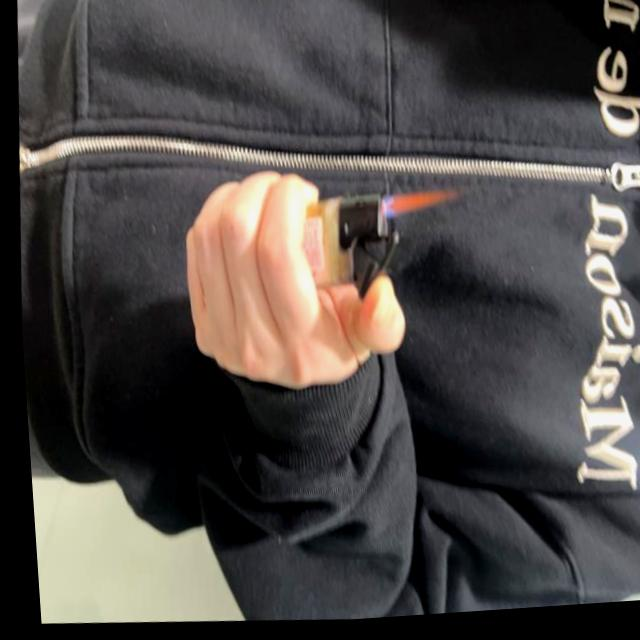helmet: (379, 192, 460, 223)
